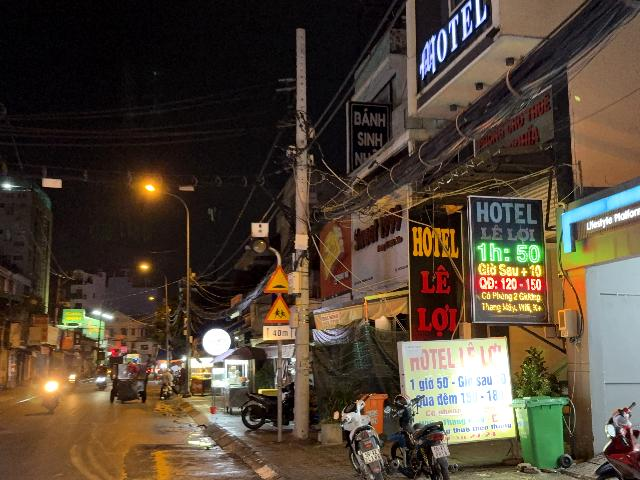duong-co-go-giam-toc: (263, 266, 289, 293)
tre-em-qua-duong: (263, 294, 290, 323)
